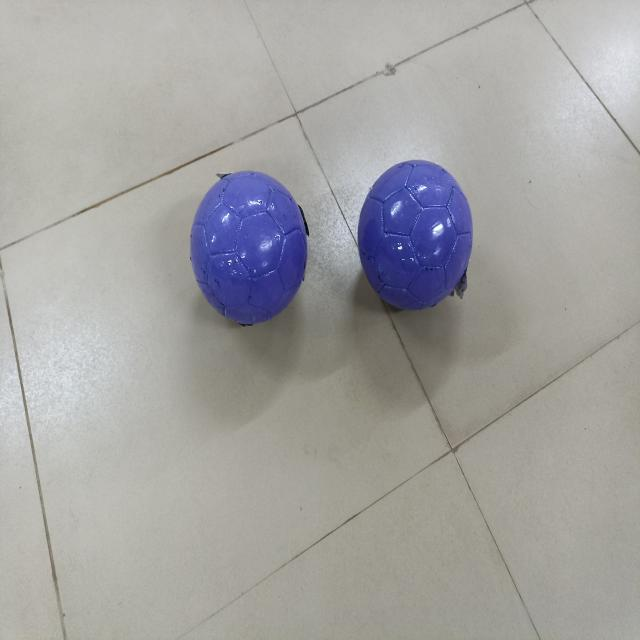purple_ball: (188, 168, 306, 325), (356, 158, 471, 306)
